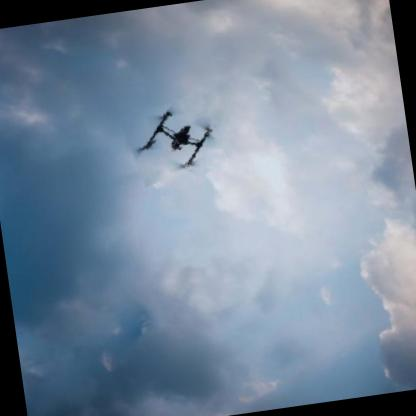drone: (122, 92, 225, 183)
